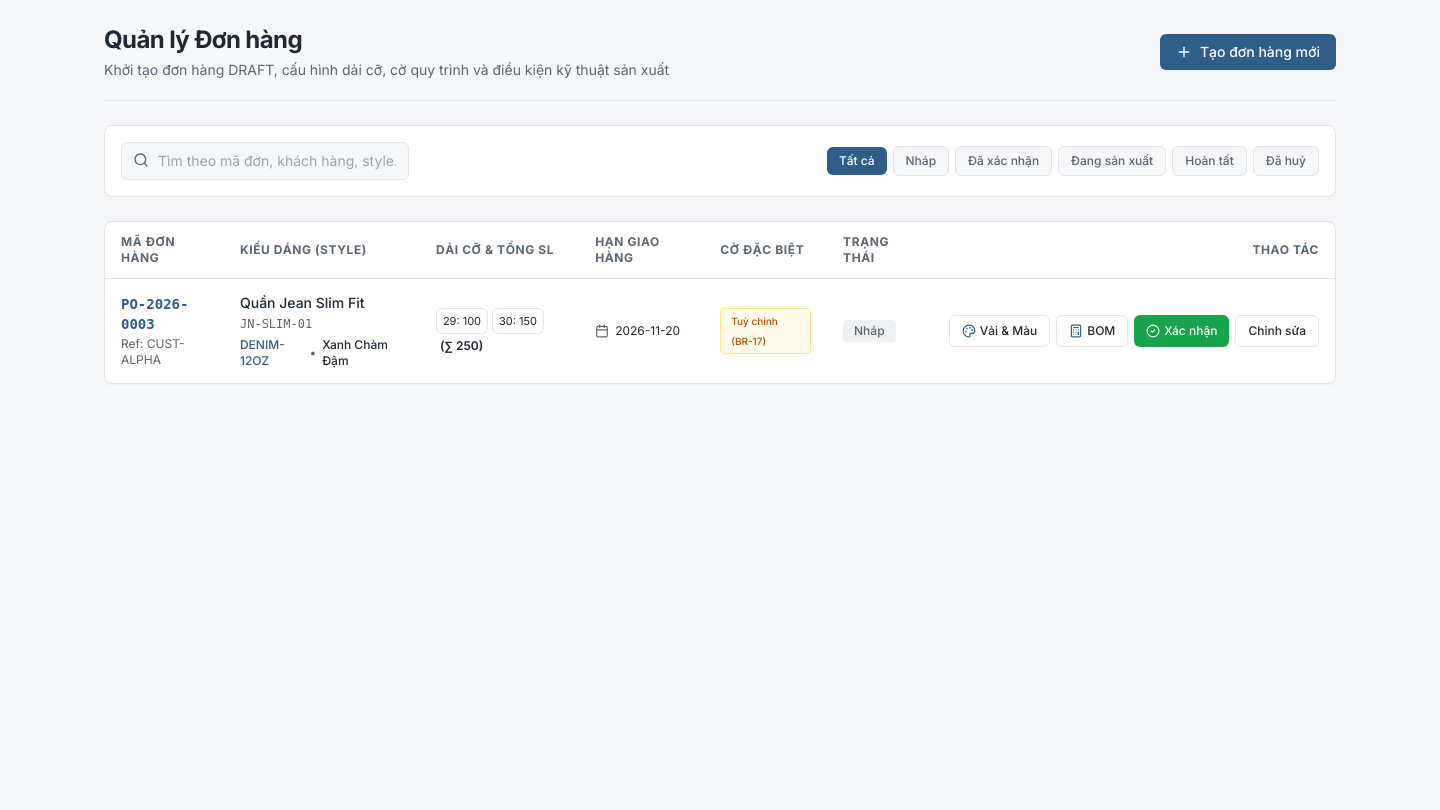
it: OrdersPage › Confirm Order & Snapshot (T3.5, FR-07, FR-11, BR-03, BR-18, BR-19) › T3.5: disables confirm button when order isCustom is true (BR-17)
Click the button "Xác nhận". click: {"x": 1182, "y": 331}
box: [1134,315,1229,347]
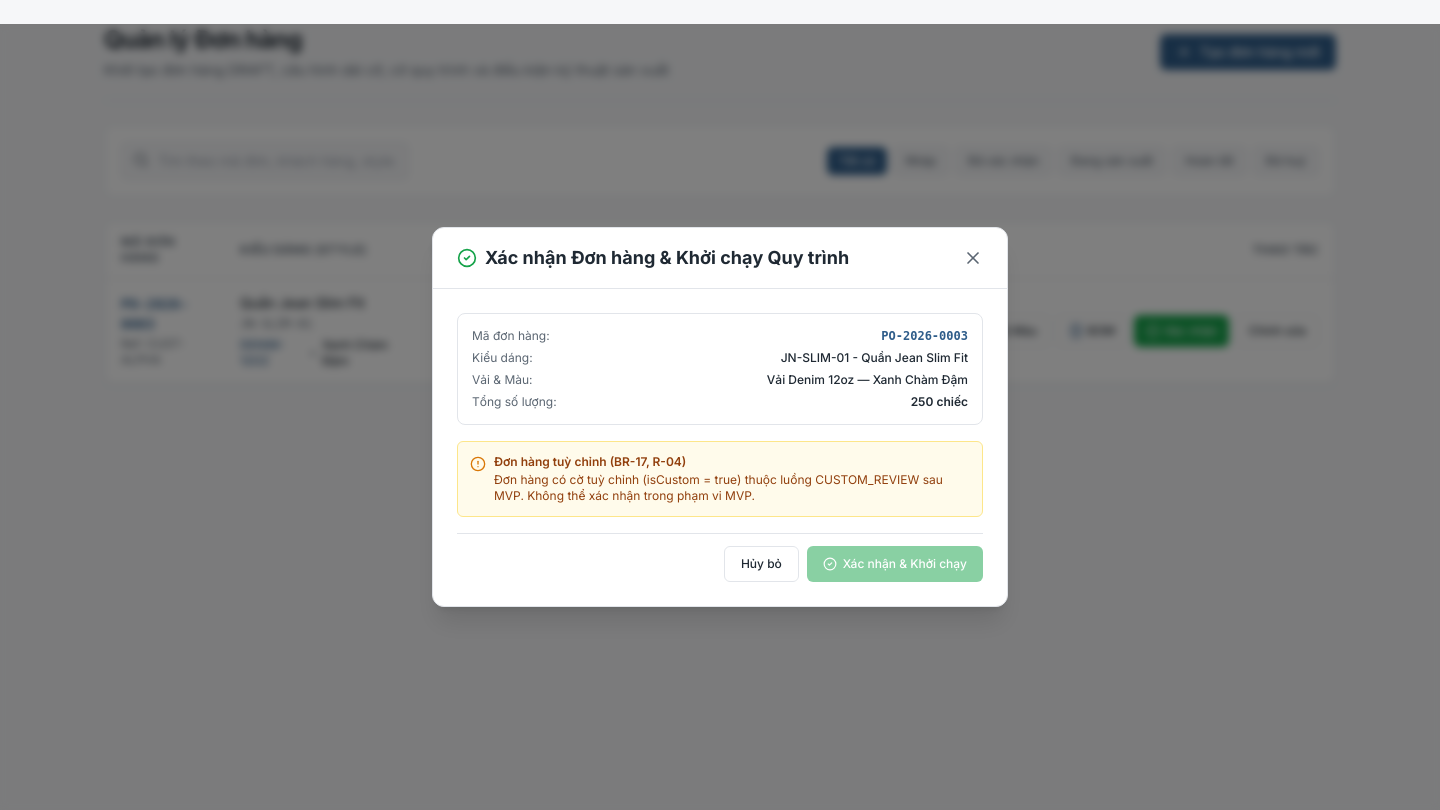
Expected: the text "Đơn hàng tuỳ chỉnh (BR-17, R-04)" is shown, [494,454,686,469]
Expected: the button "Xác nhận & Khởi chạy" is disabled, [807,546,983,582]
